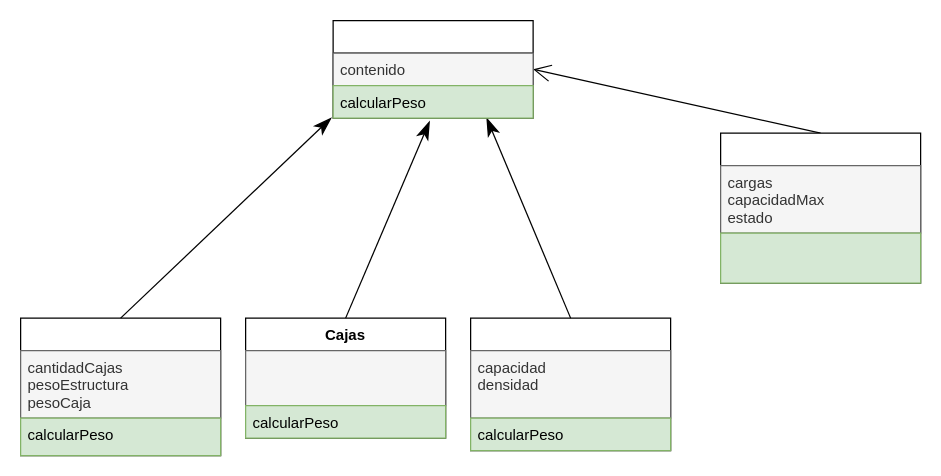
Some shapes in this 941 by 476 pixel diagram are drawn without their labels. The box of each missing label's shape, as (x1, y1, x2, y2) in pixels:
Bidon: (469, 317, 671, 451)
Camion: (719, 132, 921, 283)
Carga: (332, 19, 533, 118)
Packing: (19, 317, 221, 456)
peso: (244, 349, 446, 406)
